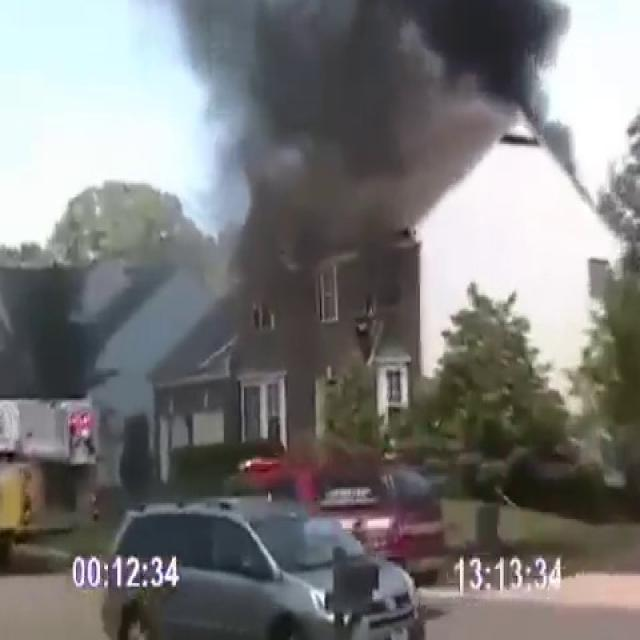Smoke: (100, 0, 616, 268)
